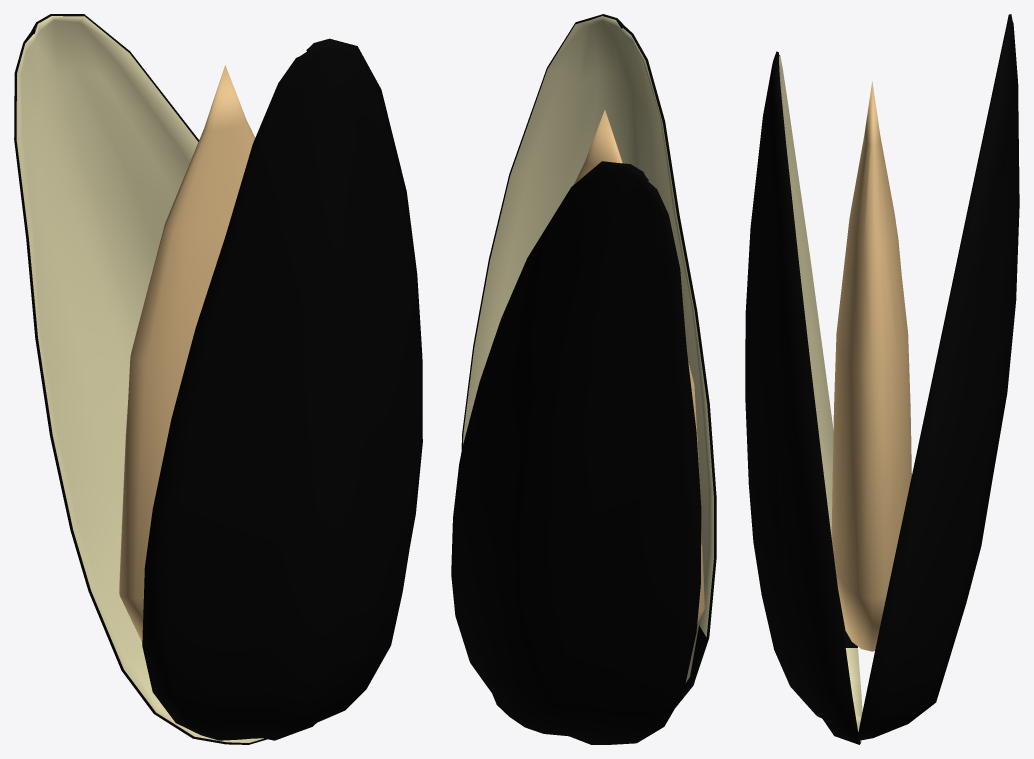
Rendered from semka.fbx.
The picture shows the model from 3 angles, left to right: view 1: azimuth 30°, elevation 25°; view 2: azimuth 150°, elevation 25°; view 3: azimuth 270°, elevation 25°; orthographic projection. The views are drawn at different scales.
Parts seen in each view (by area): view 1: semechka.001; view 2: semechka.001; view 3: semechka.001.
Part boxes in pixels (bbox=[...]): semechka.001: bbox=[14, 14, 422, 744]; semechka.001: bbox=[451, 14, 716, 744]; semechka.001: bbox=[745, 14, 1019, 744].
Size of the model in its own units: 127 by 277 by 101.
